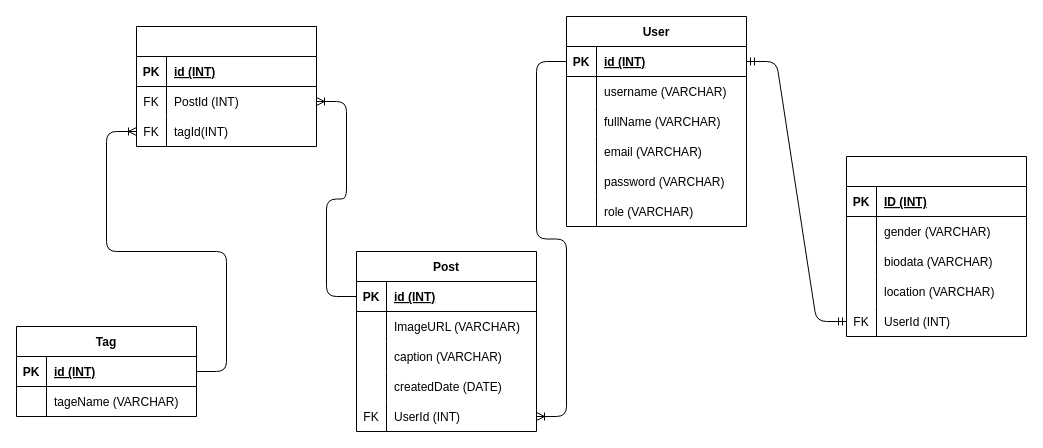
Some shapes in this 1043 by 448 pixel diagram are drawn without their labels. The box of each missing label's shape, as (x1, y1, x2, y2) in pixels:
PostTag: (136, 26, 316, 146)
Profile: (846, 156, 1026, 336)
